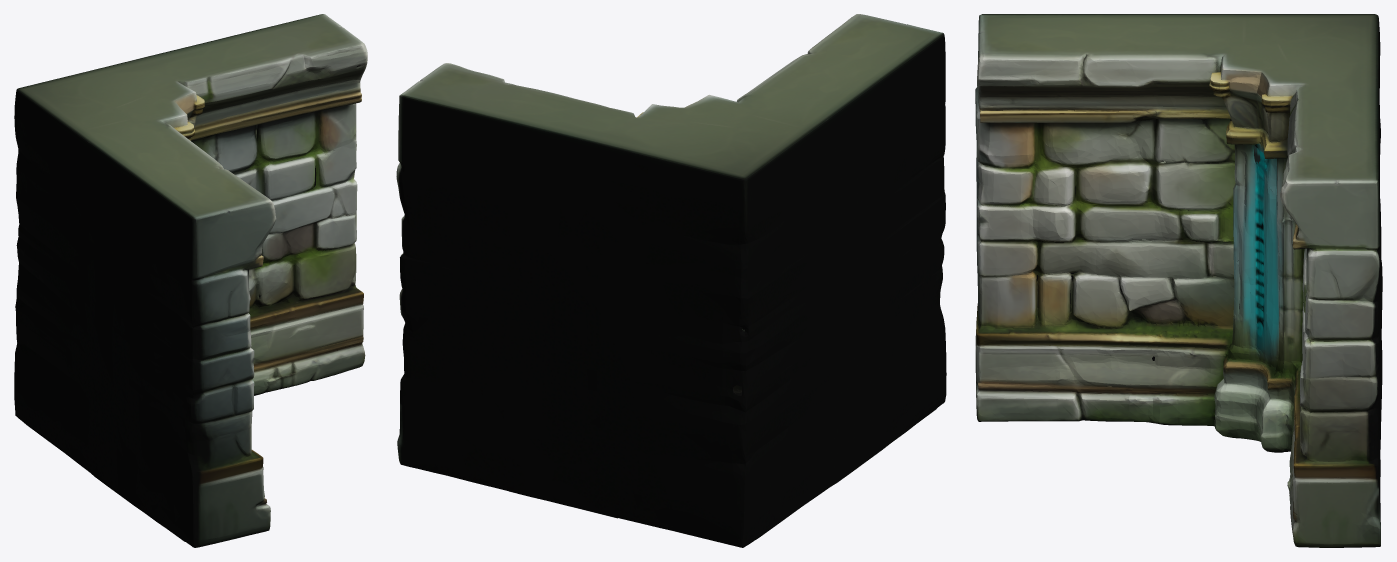
File: wall_corner.glb
3 views of the same model, side by side, from view 1: azimuth 30°, elevation 25°; view 2: azimuth 150°, elevation 25°; view 3: azimuth 270°, elevation 25° (orthographic). The views are drawn at different scales.
Visible parts, largest first — view 1: world; view 2: world; view 3: world.
Part boxes in pixels (x1,y1,x2,y2): world: (14,14,367,547); world: (396,14,946,547); world: (975,14,1382,547).
Bounding box in the file's own units: 0.9903 × 0.9991 × 0.9953.
1 material, 1 textured.
